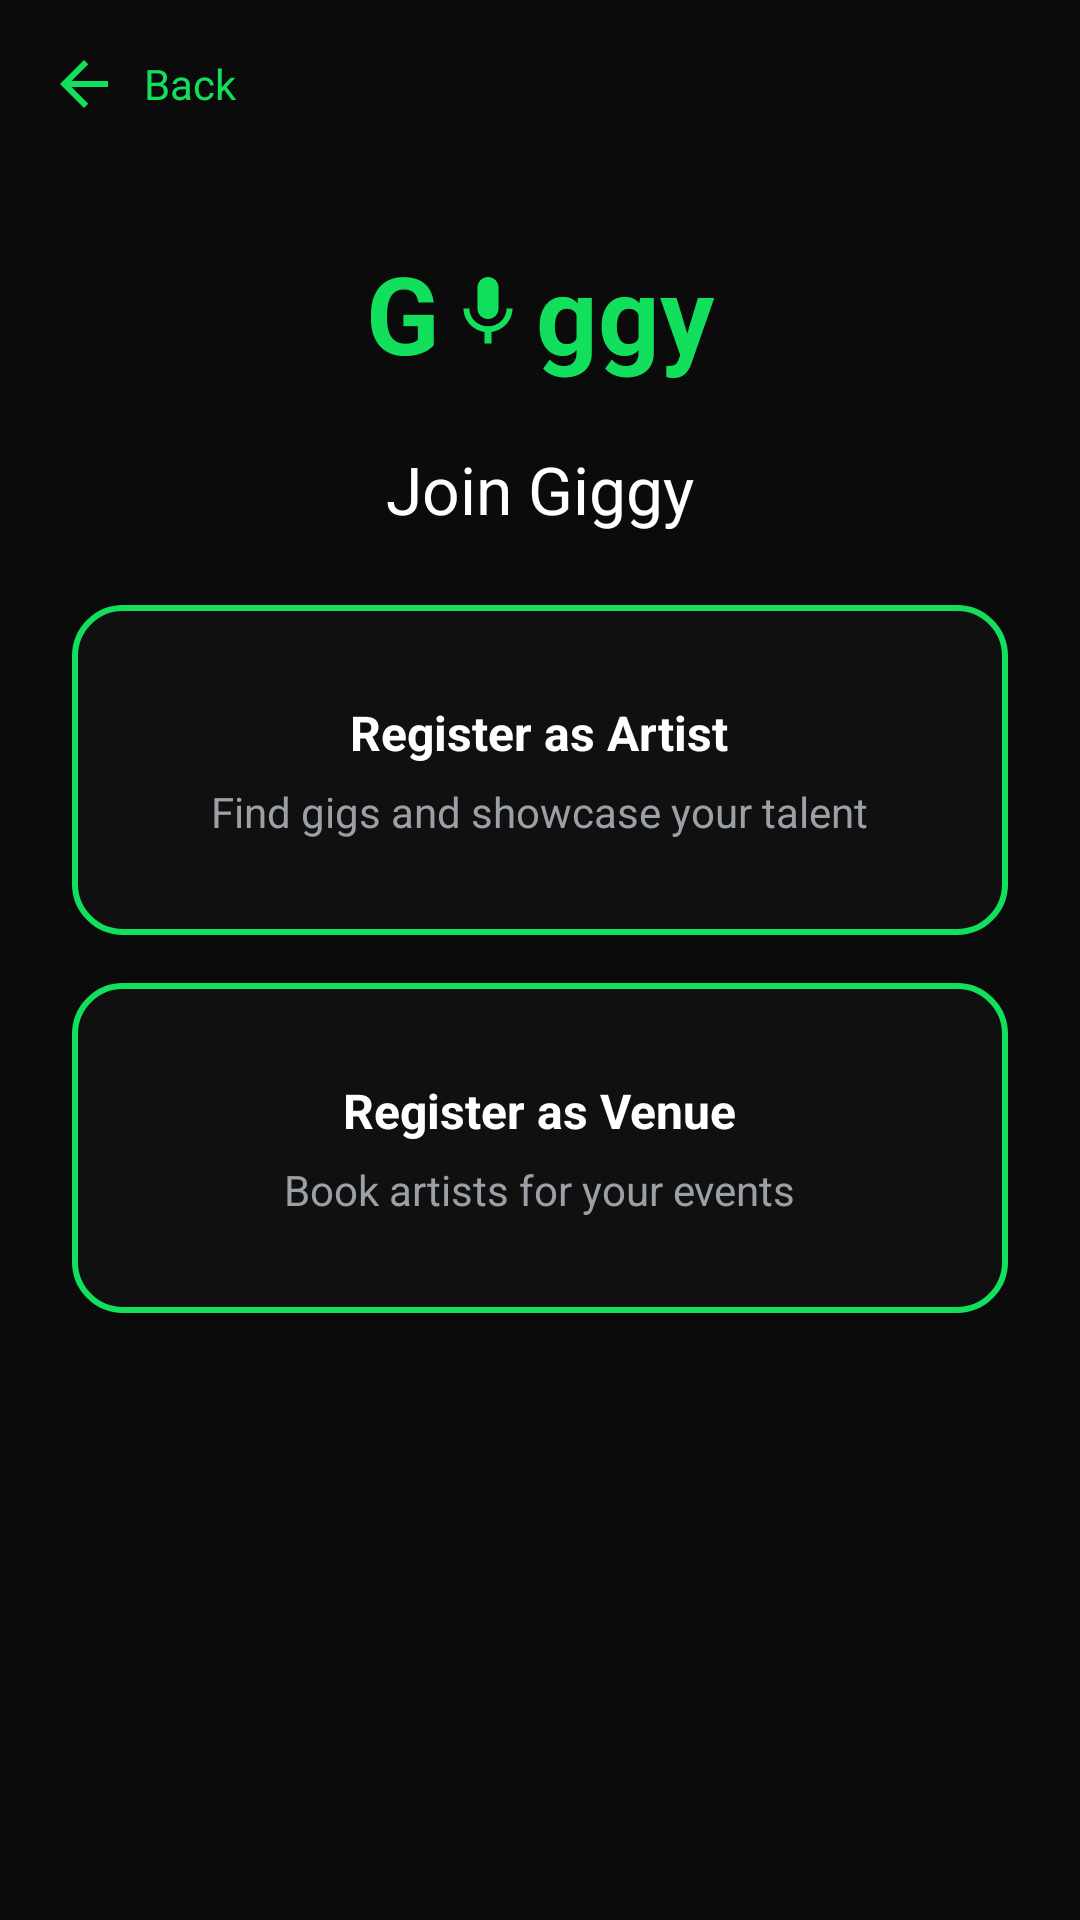

Screen size 1080px x 1920px. Icon name, then its box in pixels as box(x1, y1, x2, y2):
mic: box(463, 277, 513, 344)
